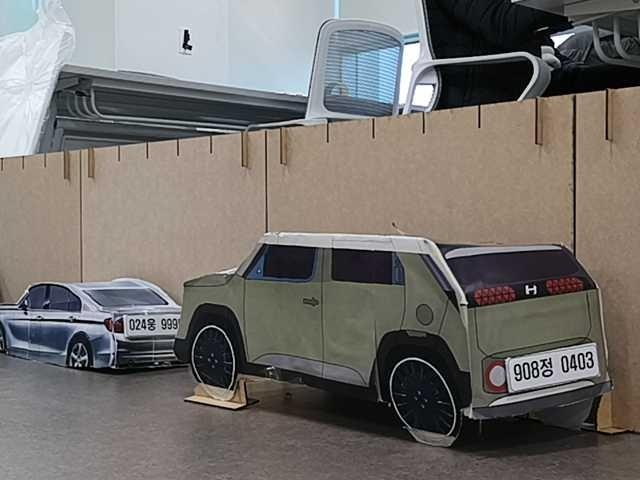car: (183, 235, 600, 449), (1, 280, 195, 373)
id: (503, 344, 601, 397), (127, 310, 183, 337)
